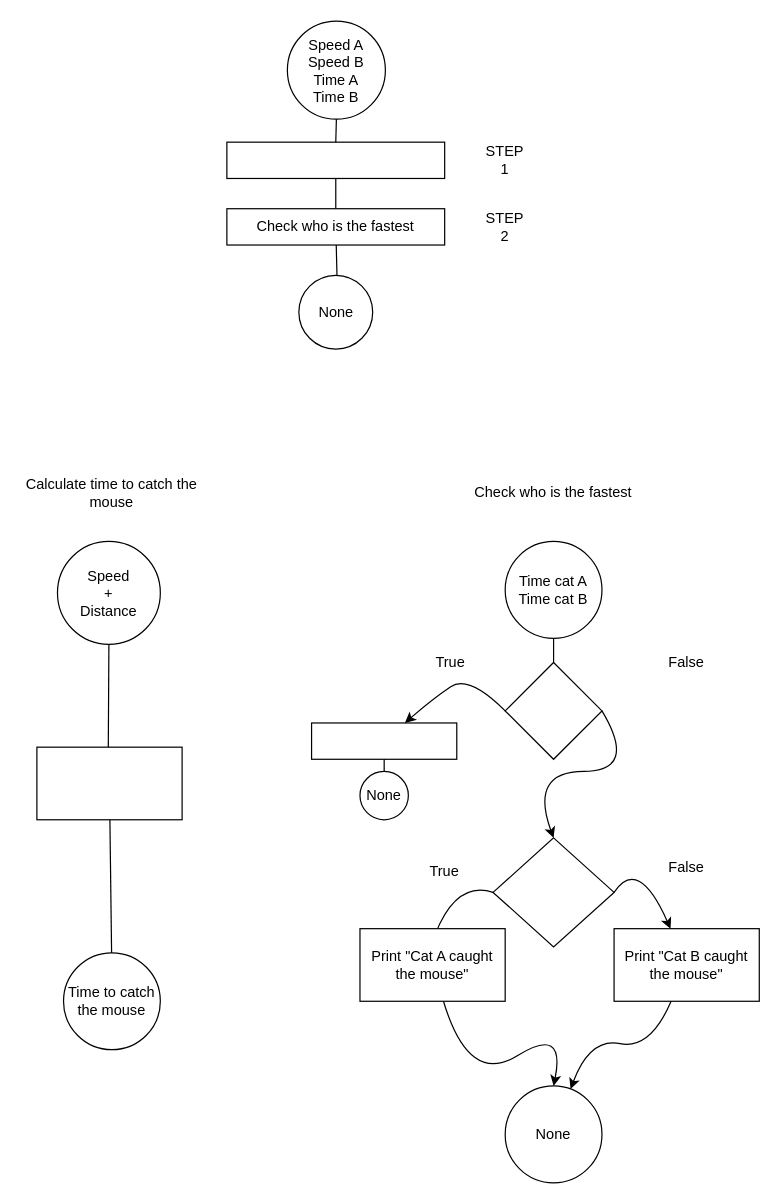
Image size: 780x1204. Some labels were removed from this diagram. Here are the shapes that lost their labels. From the top down, the box of each, then its label:
(226, 141, 445, 178): Calculate time to catch the mouse for each cat
(504, 661, 602, 759): time A = time B
(310, 722, 457, 759): Print "Mouse went away"
(36, 746, 182, 820): time = distance*speed
(492, 837, 614, 947): time A < time B
